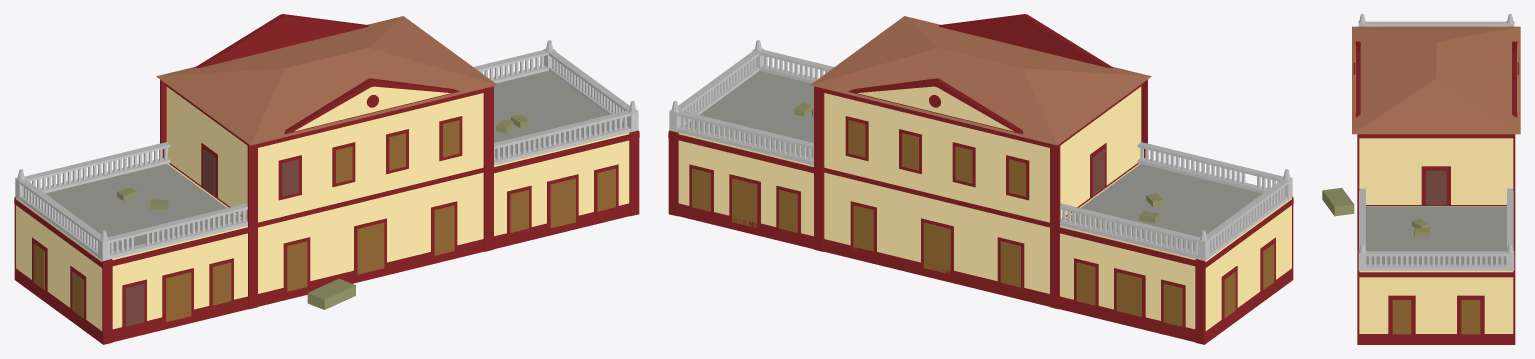
The model's file is SM_EdificioViajerosSagunto_v0_Abandonada_LOD0.fbx.
The picture shows the model from 3 angles, left to right: view 1: azimuth 30°, elevation 25°; view 2: azimuth 150°, elevation 25°; view 3: azimuth 270°, elevation 25°; orthographic projection. The views are drawn at different scales.
Parts seen in each view (by area): view 1: SM_edificio_viajeros_sagunto_v0_LOD0; view 2: SM_edificio_viajeros_sagunto_v0_LOD0; view 3: SM_edificio_viajeros_sagunto_v0_LOD0.
Part boxes in pixels (x1,y1,x2,y2): SM_edificio_viajeros_sagunto_v0_LOD0: (14, 14, 639, 344); SM_edificio_viajeros_sagunto_v0_LOD0: (668, 14, 1293, 344); SM_edificio_viajeros_sagunto_v0_LOD0: (1322, 14, 1520, 344).
Bounding box in the file's own units: 32.12 × 11.4 × 11.53.
